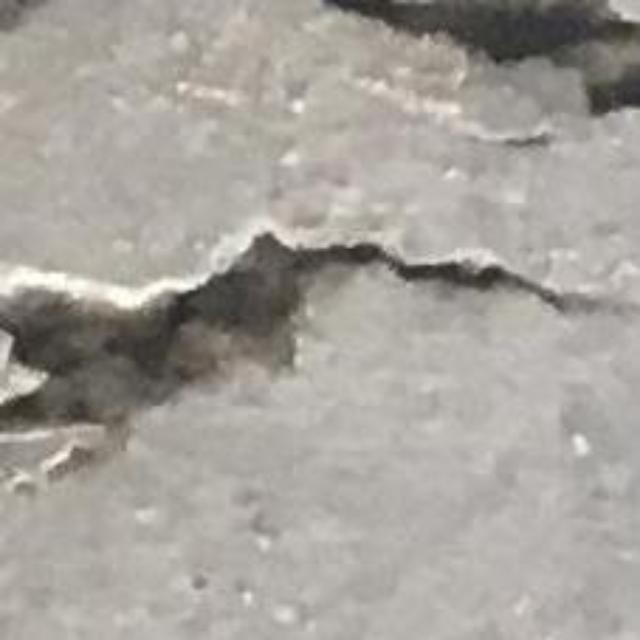crack: (0, 232, 521, 476)
